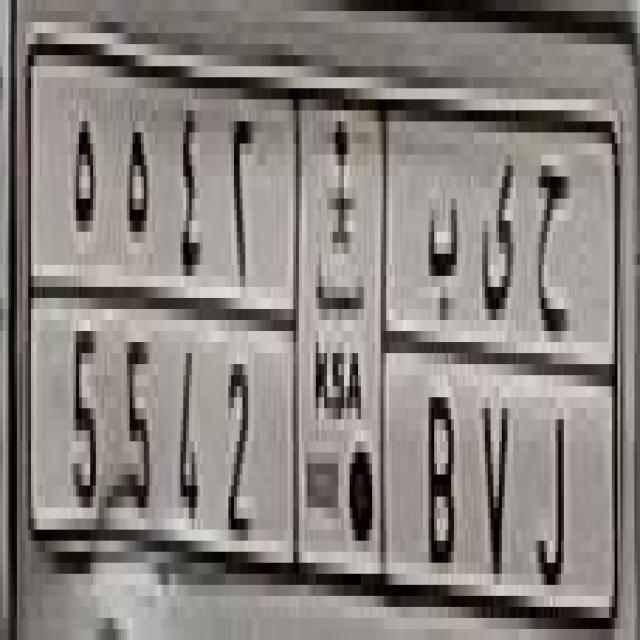license_plate: (23, 20, 622, 630)
